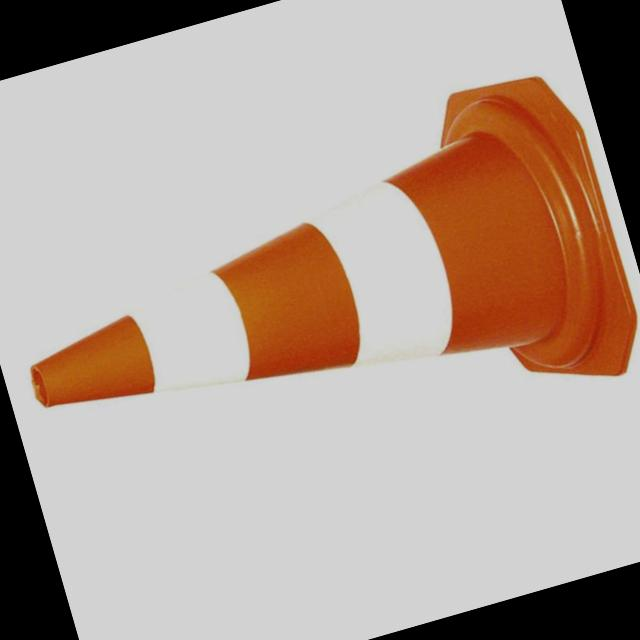cone: (0, 101, 625, 502)
